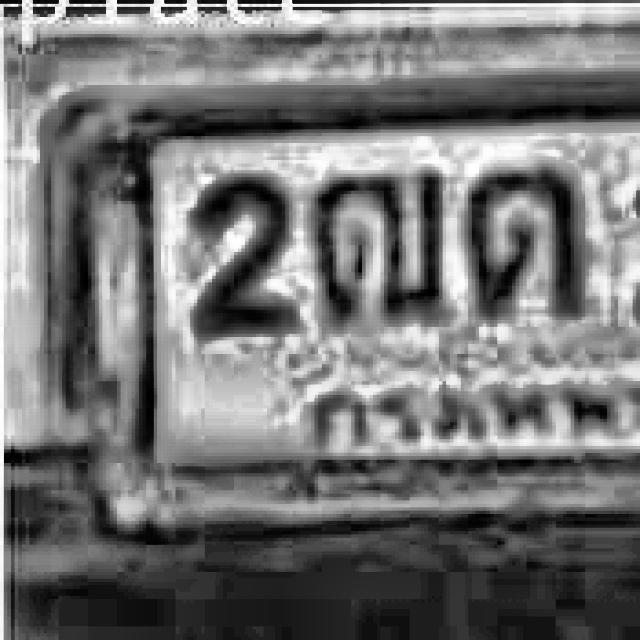license-plate: (40, 62, 640, 560)
